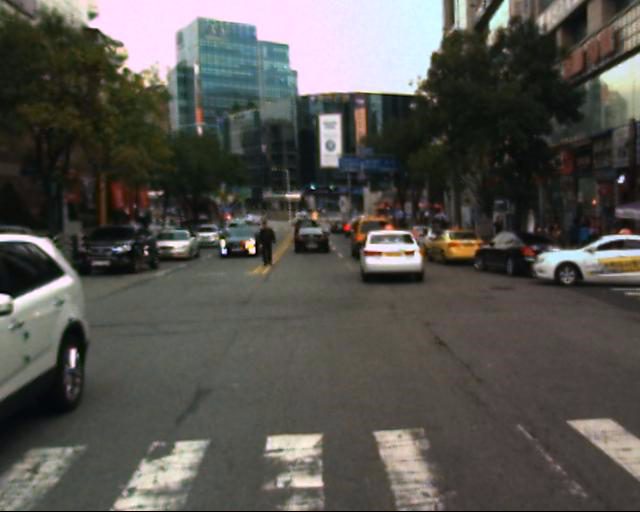person: (256, 218, 280, 278), (565, 215, 590, 256), (544, 213, 565, 251)
